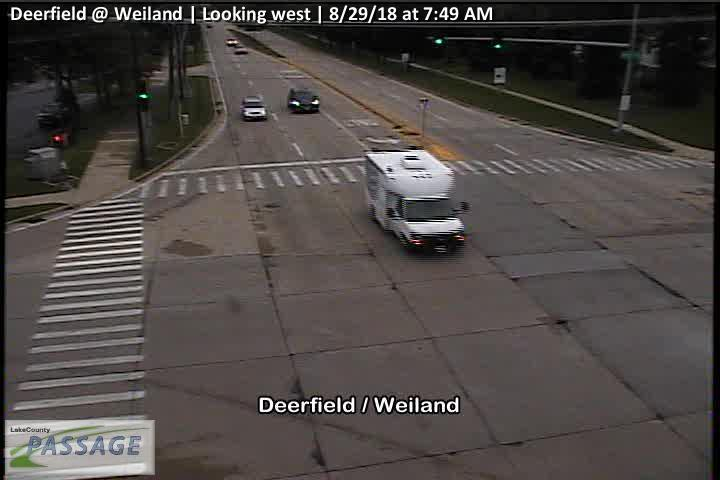SUV: (288, 87, 320, 112), (241, 95, 267, 120)
Truck: (365, 147, 471, 255)
